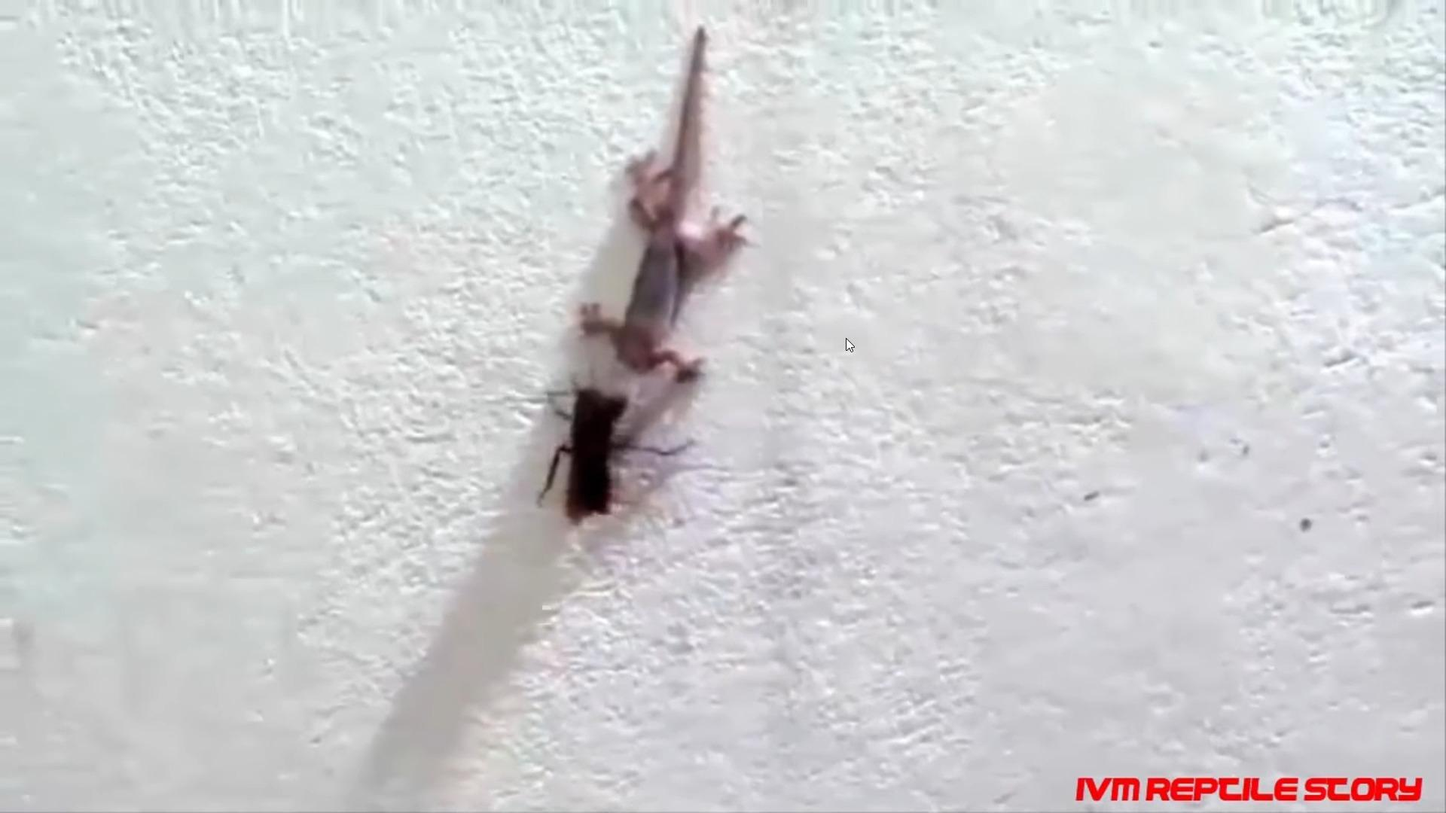cockroach: (553, 382, 621, 522)
lizard: (576, 43, 755, 415)
